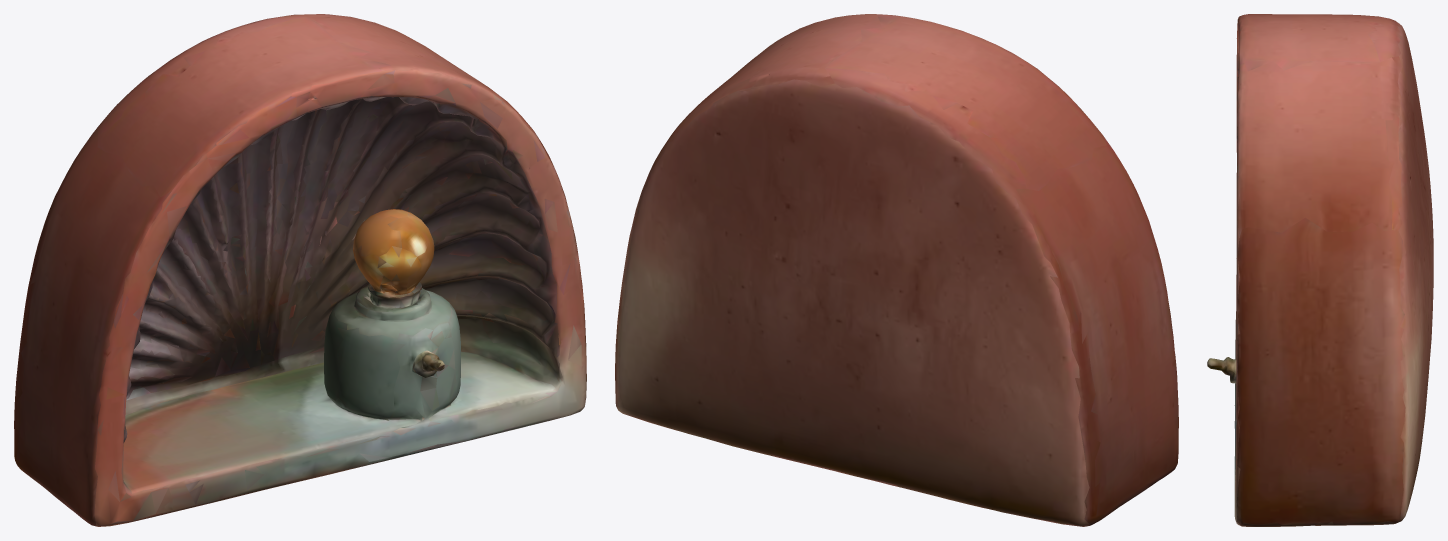
Rendered from sc-lantern-niche.glb.
3 views of the same model, side by side, from view 1: azimuth 30°, elevation 25°; view 2: azimuth 150°, elevation 25°; view 3: azimuth 270°, elevation 25° (orthographic). The views are drawn at different scales.
Parts seen in each view (by area): view 1: geometry_0; view 2: geometry_0; view 3: geometry_0.
Part boxes in pixels (bbox=[...]): geometry_0: bbox=[14, 14, 586, 526]; geometry_0: bbox=[615, 14, 1178, 526]; geometry_0: bbox=[1207, 14, 1433, 526].
Size of the model in its own units: 1 by 0.7646 by 0.4196.
1 material, 1 textured.
